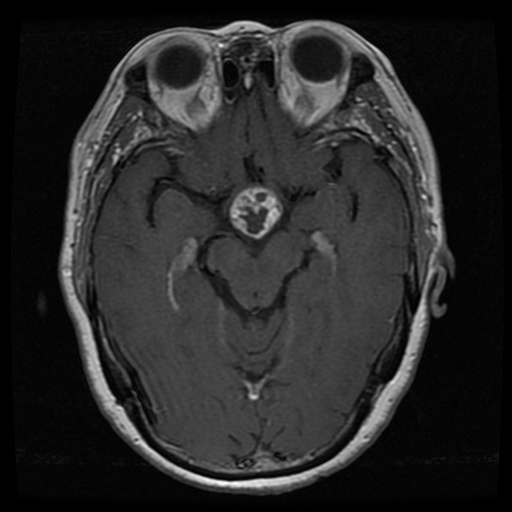pituitary: (227, 185, 283, 240)
